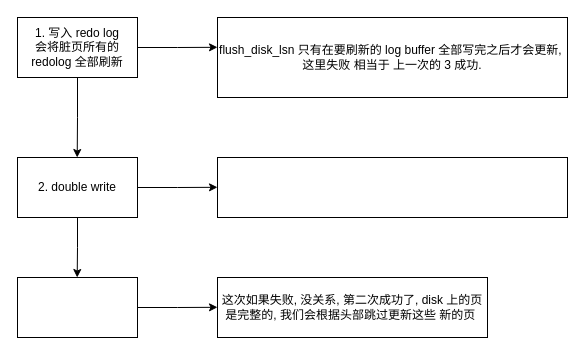
The diagram is 585 pixels wide and 355 high, and some of its shapes have lost their labels. Here are the shapes that lost their labels. From the top down, the centre of each, then its label:
At [392,187]: "如果第一次写失败, 根据redo log 恢复, 第二次失败, 当前页损坏( 校验和 ) 然后会根据第一次写的恢复".
At [77,307]: "3. check point 会计算当前 flush 链表中最小的 第一次的修改时间".
